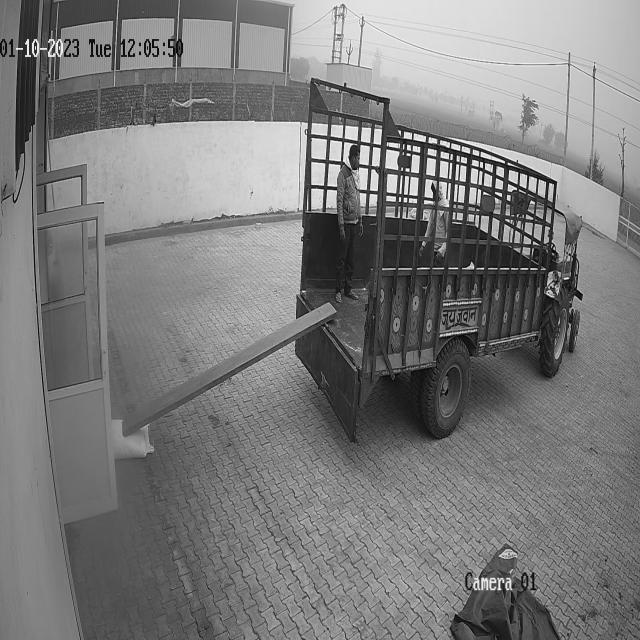sack: (110, 418, 153, 460)
